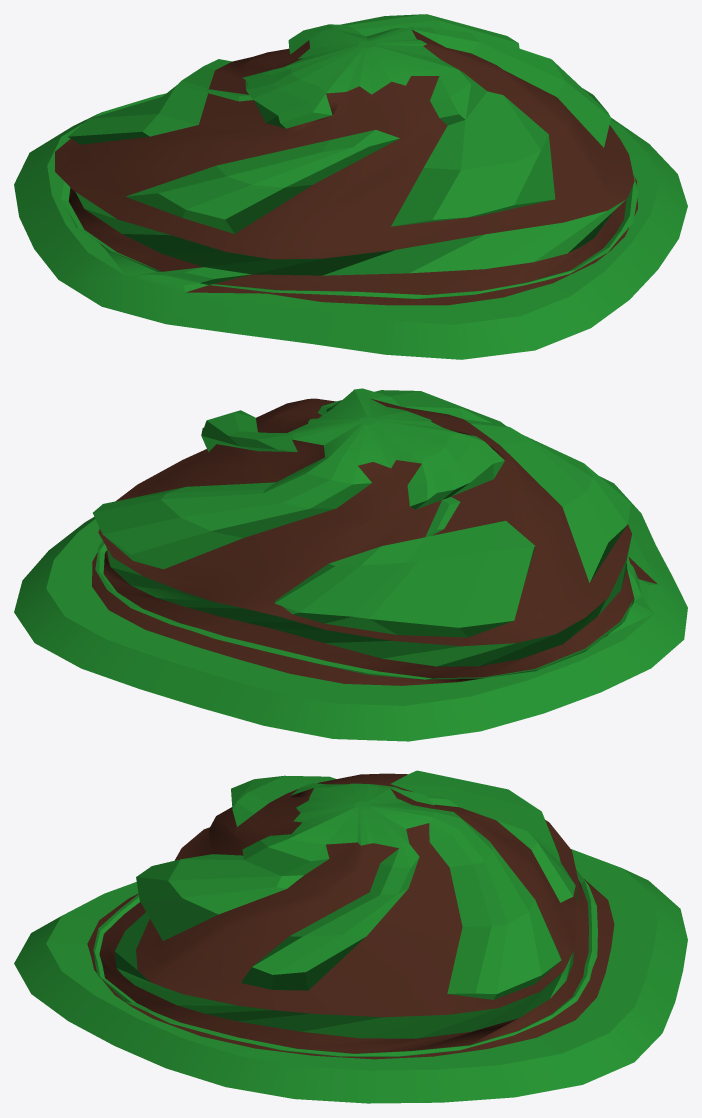
File: Mount_4_Tiled_Cup.fbx
The picture shows the model from 3 angles, top to bottom: view 1: azimuth 30°, elevation 25°; view 2: azimuth 150°, elevation 25°; view 3: azimuth 270°, elevation 25°; orthographic projection. The views are drawn at different scales.
Parts seen in each view (by area): view 1: Rock_4_Cup; view 2: Rock_4_Cup; view 3: Rock_4_Cup.
Boxes of the visible parts, x1,y1,x2,y2 form: Rock_4_Cup: (14,14,687,359); Rock_4_Cup: (14,388,687,741); Rock_4_Cup: (14,770,687,1103).
Size of the model in its own units: 1601 by 448 by 1663.
